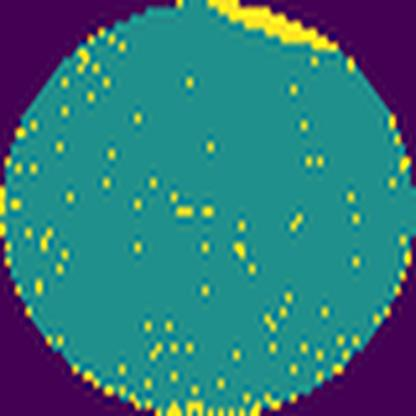Edge-Loc: (203, 0, 346, 55)
